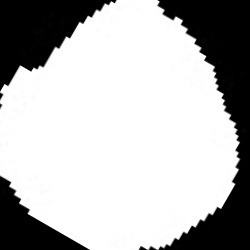spot: (0, 2, 240, 249)
